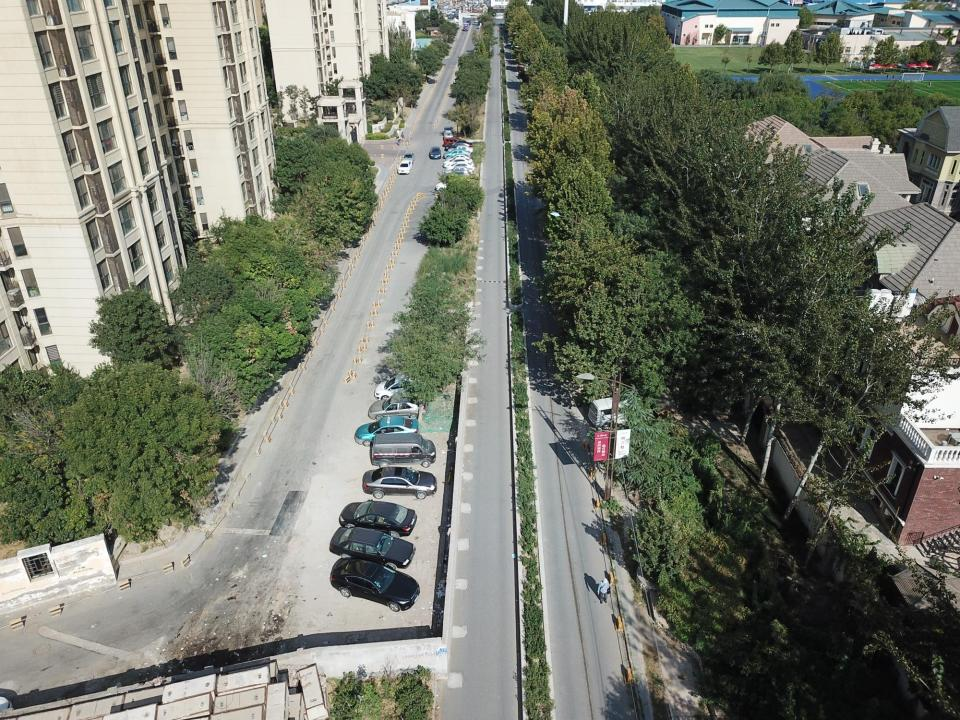car: (329, 557, 420, 613), (327, 526, 417, 570), (337, 498, 418, 538), (361, 465, 438, 498), (353, 416, 420, 447), (368, 394, 428, 422), (374, 373, 423, 403), (441, 154, 472, 168), (443, 136, 473, 150), (444, 160, 474, 174), (444, 139, 473, 150), (435, 180, 461, 192), (442, 149, 470, 160), (446, 144, 473, 155), (443, 171, 470, 181), (444, 166, 470, 176), (396, 159, 412, 175), (428, 145, 441, 160), (401, 152, 415, 164), (443, 131, 453, 140), (442, 126, 453, 134)
truck: (463, 22, 468, 30), (473, 18, 479, 24)
van: (370, 433, 437, 469), (588, 397, 645, 431)
